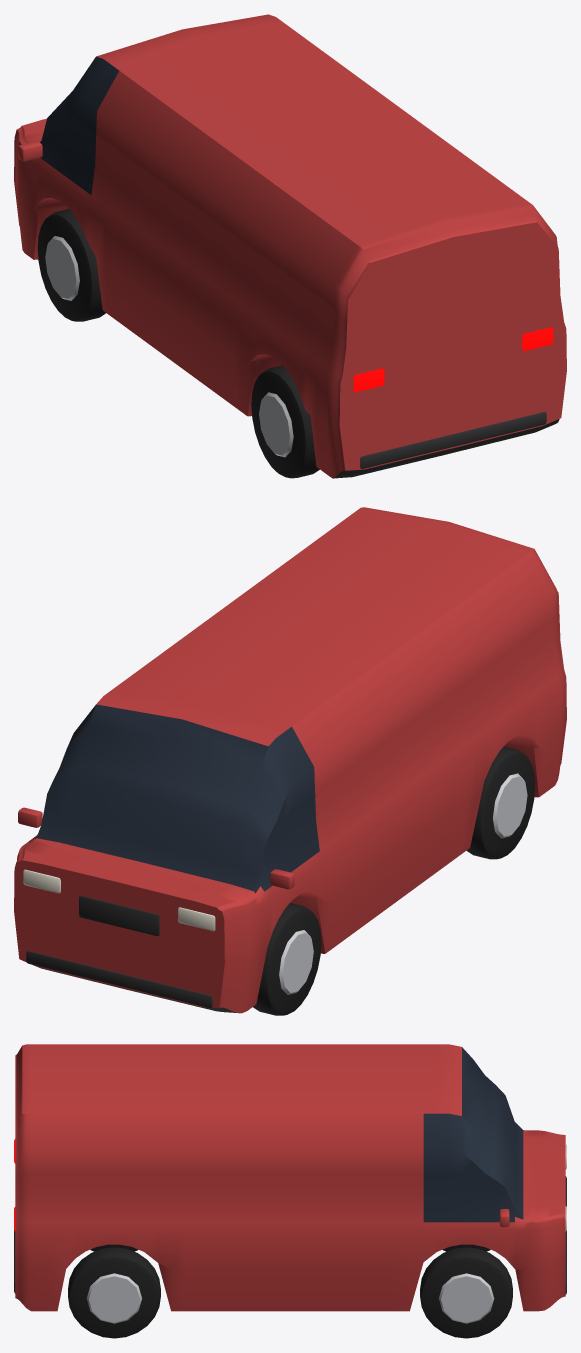
File: Transporter.fbx
3 renders of one model, top to bottom at view 1: azimuth 30°, elevation 25°; view 2: azimuth 150°, elevation 25°; view 3: azimuth 270°, elevation 25°, orthographic. The views are drawn at different scales.
Parts seen in each view (by area): view 1: Transporter_Body, Transporter_Tire, Transporter_Glass, Transporter_Trim, Transporter_Rim, Transporter_Taillight; view 2: Transporter_Body, Transporter_Glass, Transporter_Tire, Transporter_Trim, Transporter_Rim, Transporter_Headlight; view 3: Transporter_Body, Transporter_Glass, Transporter_Tire, Transporter_Rim.
Boxes of the visible parts, x1,y1,x2,y2 form: Transporter_Body: [14, 14, 566, 478]; Transporter_Tire: [37, 209, 319, 478]; Transporter_Glass: [40, 56, 119, 194]; Transporter_Trim: [333, 412, 559, 478]; Transporter_Rim: [45, 236, 293, 457]; Transporter_Taillight: [353, 327, 553, 392]; Transporter_Body: [14, 507, 566, 1013]; Transporter_Glass: [35, 704, 319, 893]; Transporter_Tire: [253, 746, 535, 1015]; Transporter_Trim: [26, 895, 239, 1013]; Transporter_Rim: [279, 773, 527, 994]; Transporter_Headlight: [23, 869, 215, 930]; Transporter_Body: [15, 1044, 565, 1311]; Transporter_Glass: [423, 1047, 523, 1222]; Transporter_Tire: [68, 1244, 512, 1338]; Transporter_Rim: [86, 1273, 494, 1323].
Size of the model in its own units: 9.2 by 8.6 by 19.6.
